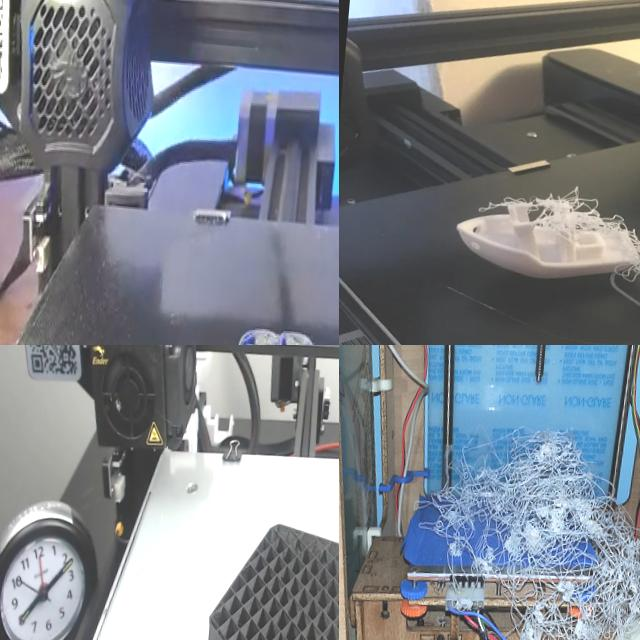spaghetti: (402, 394, 640, 640), (459, 172, 640, 339)
